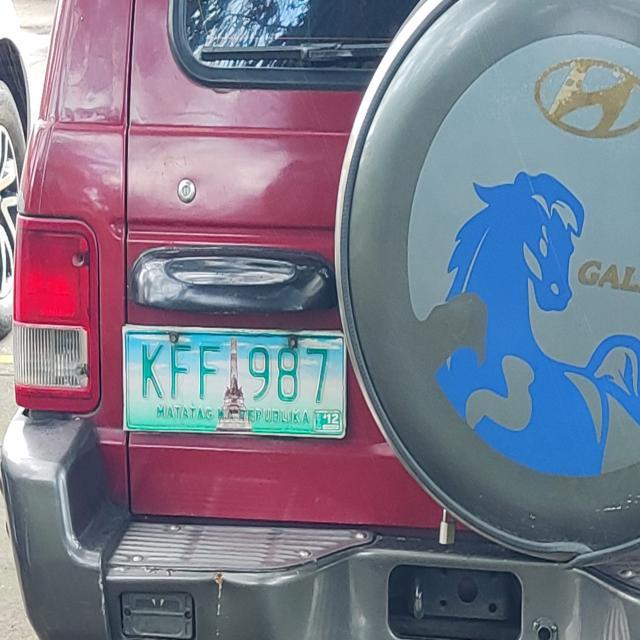LicensePlate: (100, 313, 356, 446)
